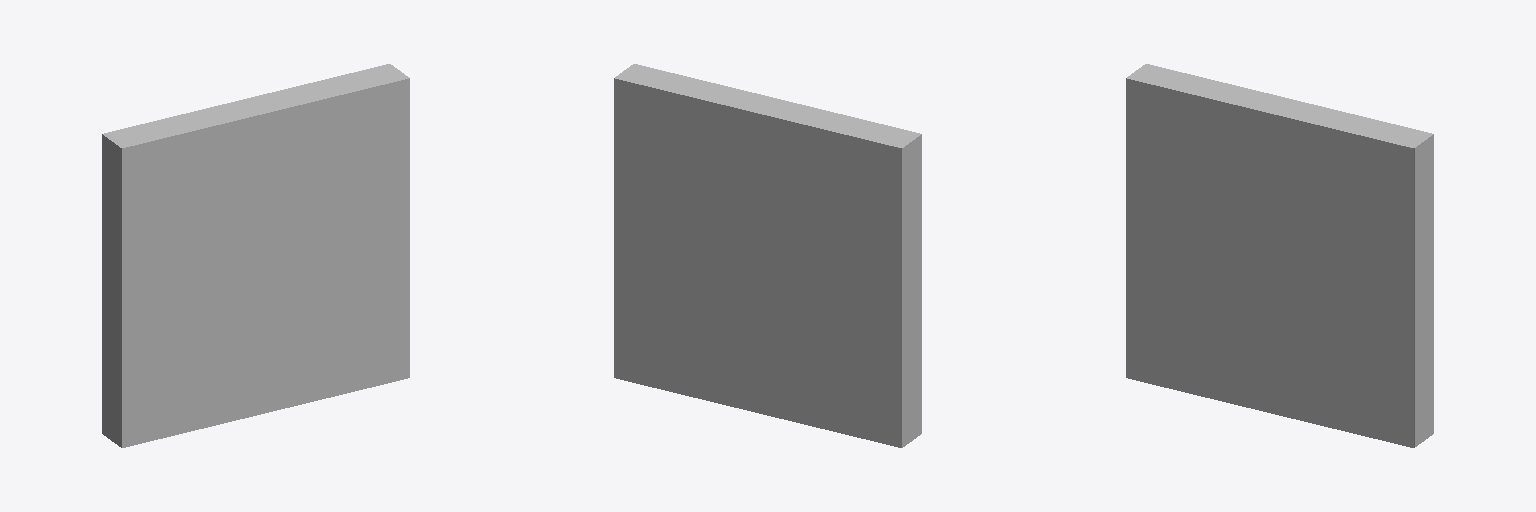
File: boxgb_noreflx.obj
3 views of the same model, side by side, from view 1: azimuth 30°, elevation 25°; view 2: azimuth 150°, elevation 25°; view 3: azimuth 330°, elevation 25° (orthographic).
Parts seen in each view (by area): view 1: boxgb_noreflx_box.005; view 2: boxgb_noreflx_box.005; view 3: boxgb_noreflx_box.005.
Boxes of the visible parts, x1=… form: boxgb_noreflx_box.005: x1=102, y1=64, x2=409, y2=447; boxgb_noreflx_box.005: x1=614, y1=64, x2=921, y2=447; boxgb_noreflx_box.005: x1=1126, y1=64, x2=1433, y2=447.
Size of the model in its own units: 1.56 by 1.55 by 0.1872.